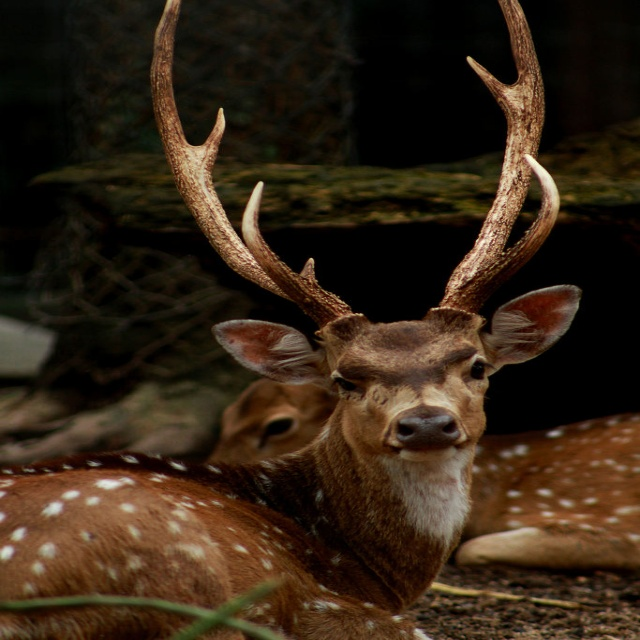Deer: (0, 0, 640, 640), (197, 376, 640, 591)
